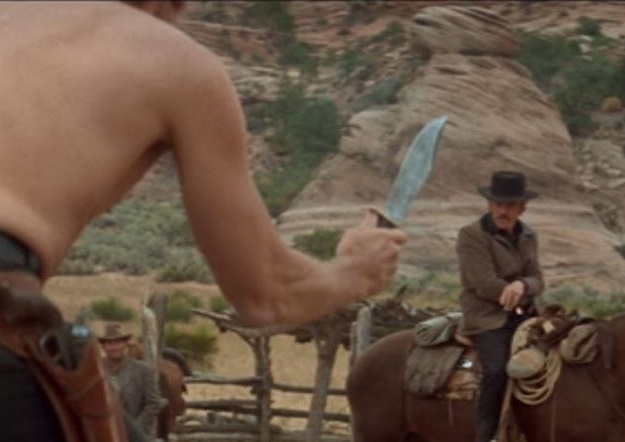knife: (343, 112, 456, 305)
